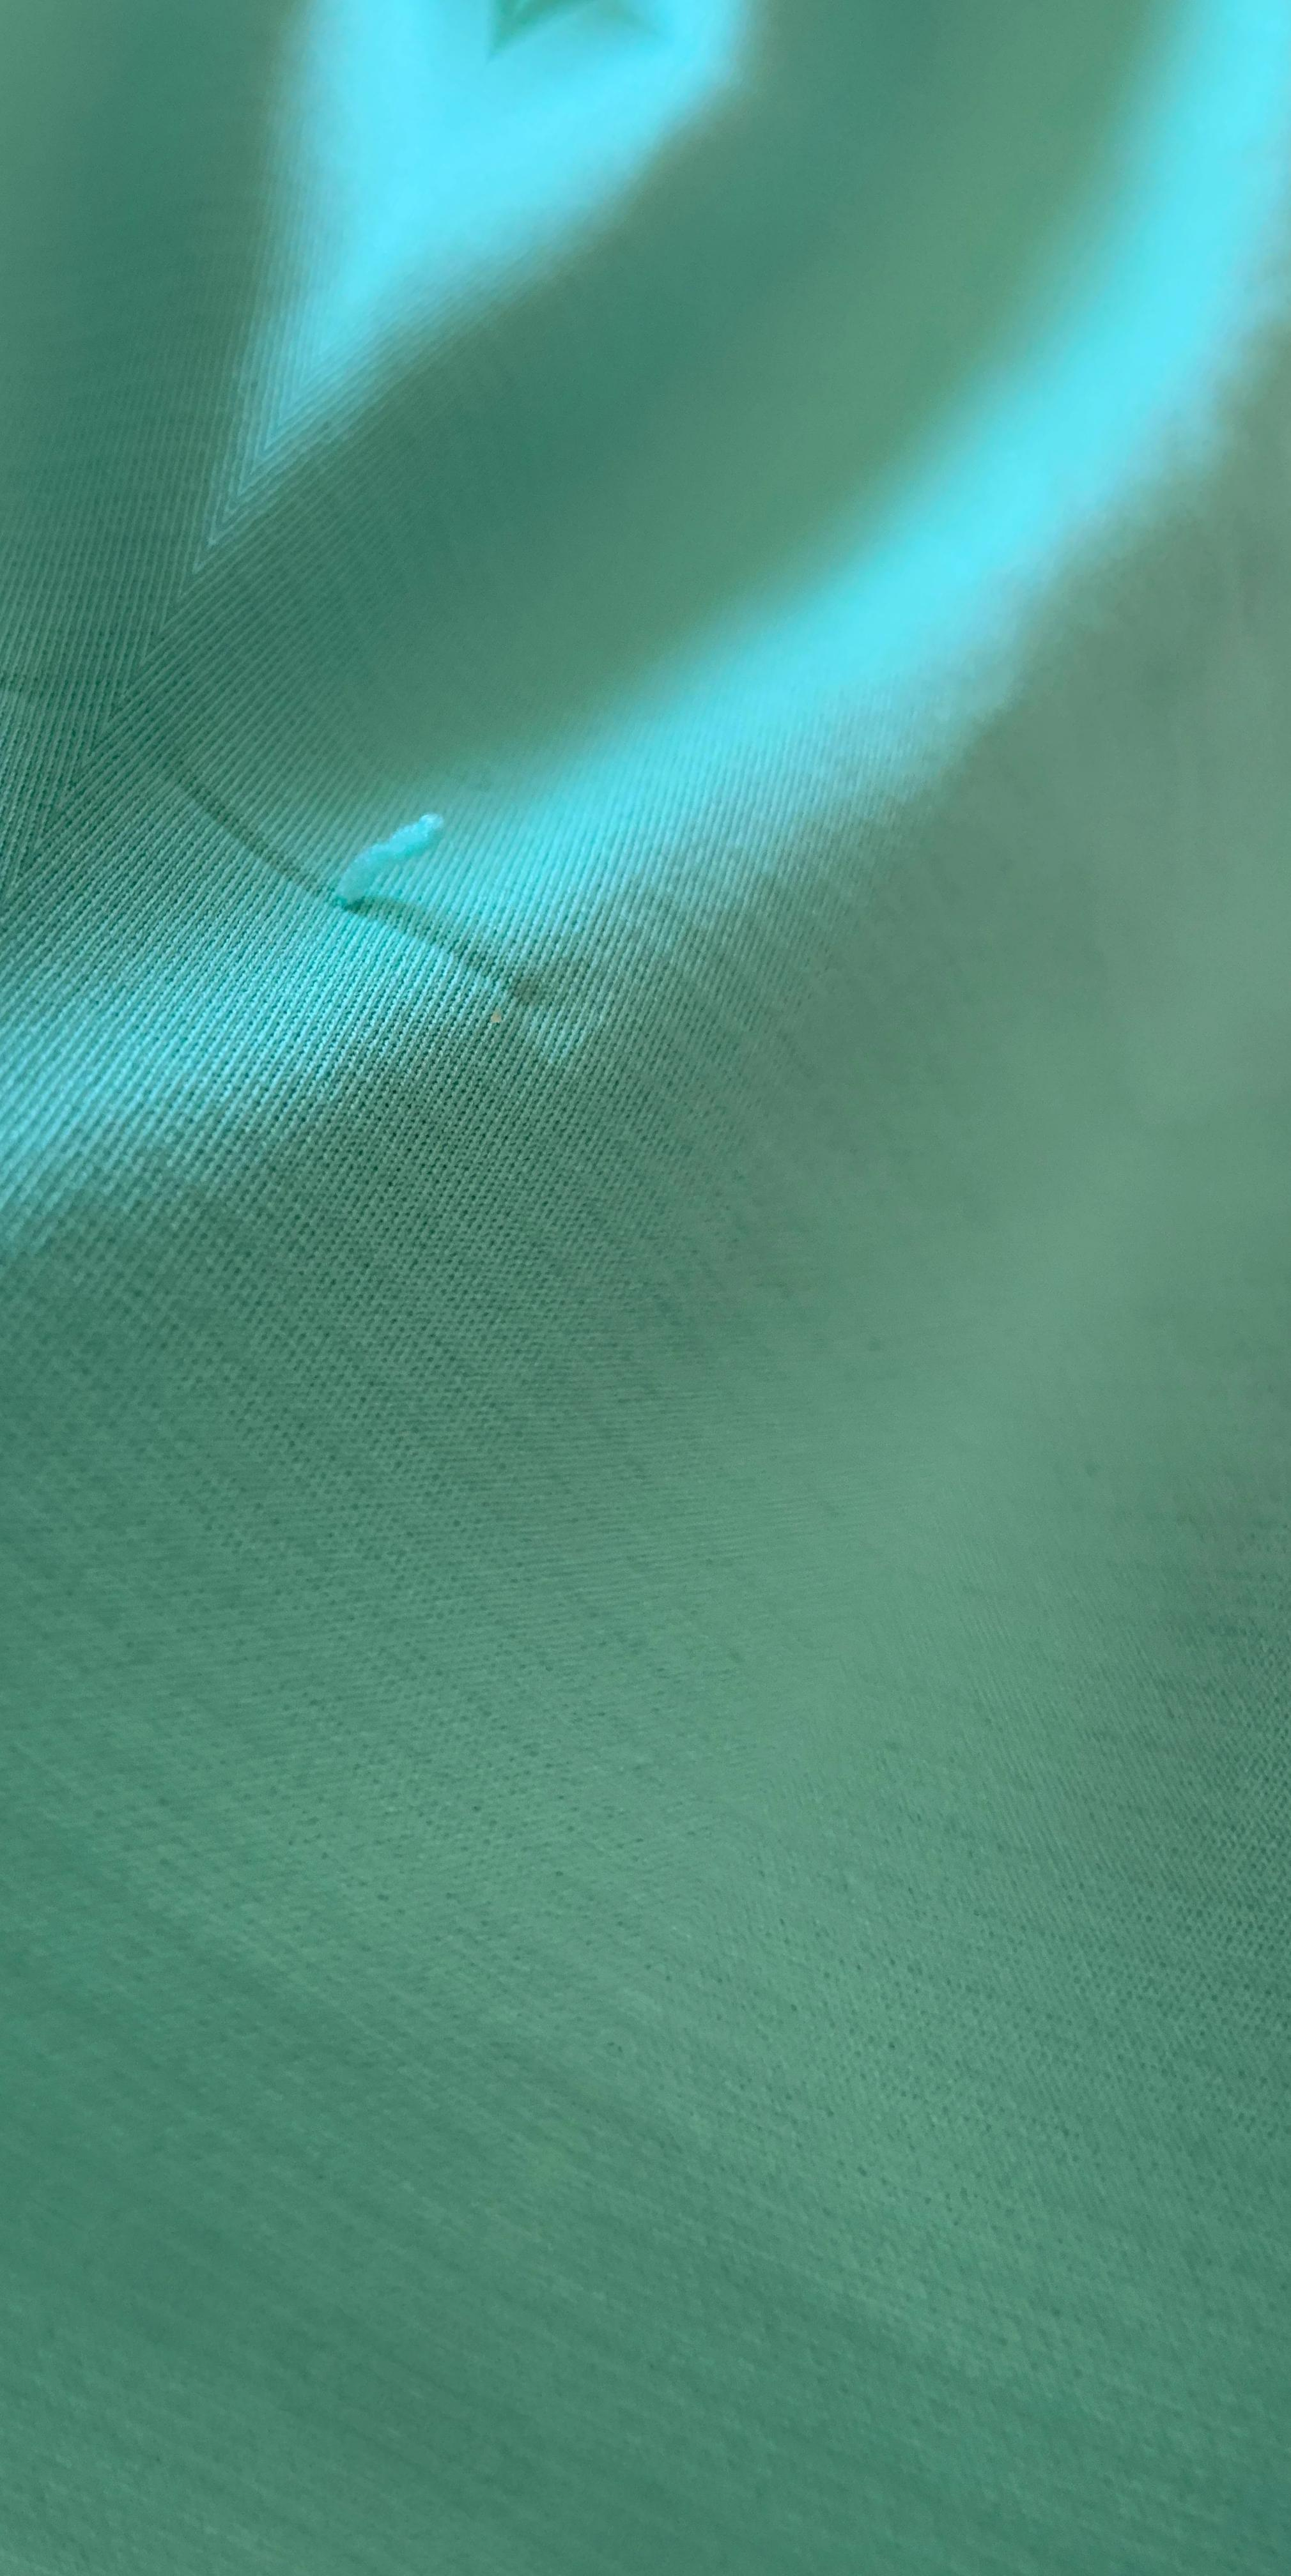snag: (259, 701, 504, 1035)
